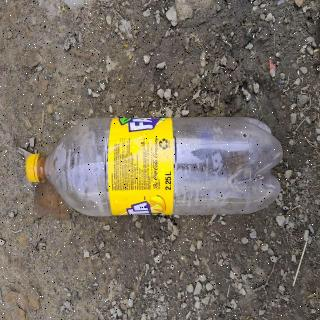Plastic-bottle: (22, 92, 290, 254)
